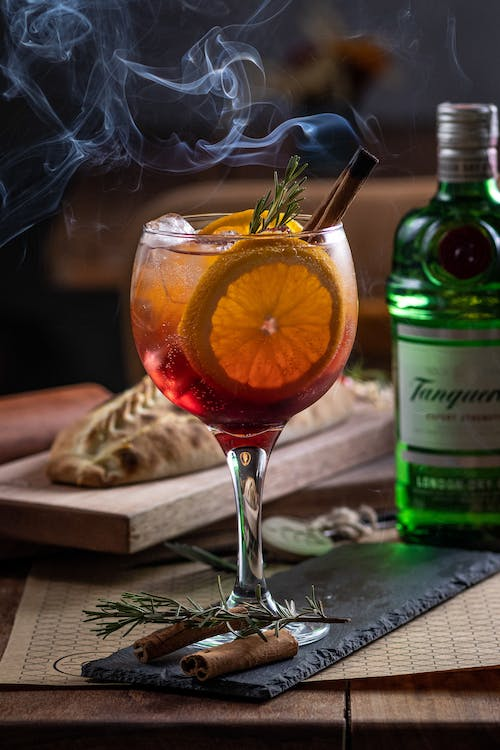alcohol: (127, 209, 362, 655), (381, 100, 500, 555)
